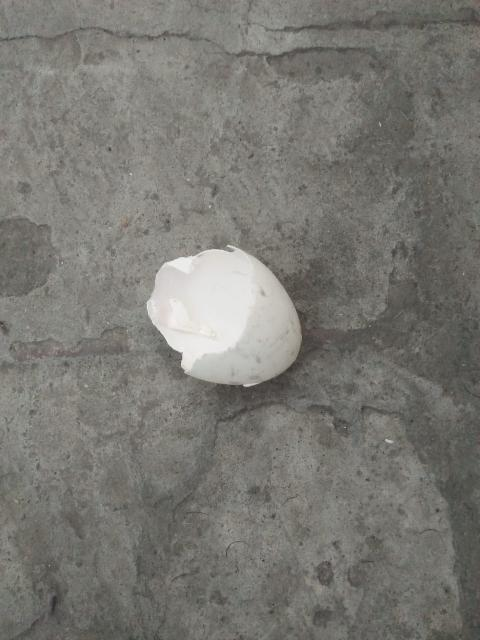Roto: (145, 244, 302, 388)
